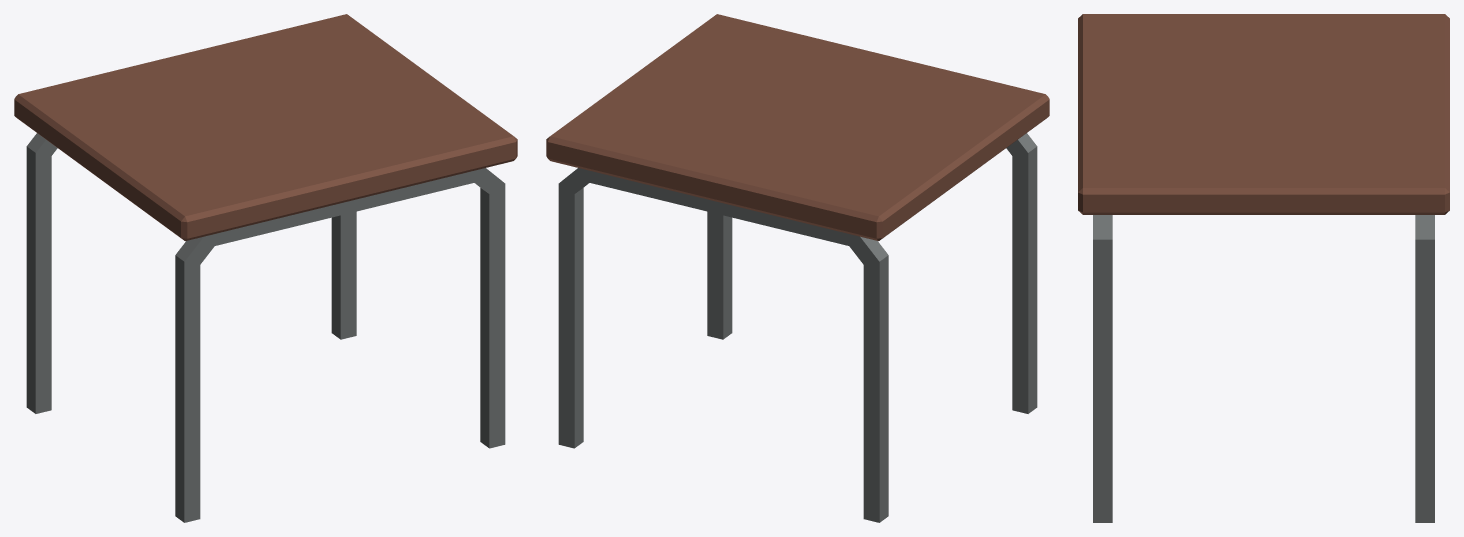
File: SM_Props_Interior_Shop_Restaurant_Table_01.fbx
3 renders of one model, left to right at view 1: azimuth 30°, elevation 25°; view 2: azimuth 150°, elevation 25°; view 3: azimuth 270°, elevation 25°, orthographic. The views are drawn at different scales.
Parts seen in each view (by area): view 1: SM_Props_Interior_Shop_Restaurant_Table_01; view 2: SM_Props_Interior_Shop_Restaurant_Table_01; view 3: SM_Props_Interior_Shop_Restaurant_Table_01.
Part boxes in pixels (x1,y1,x2,y2): SM_Props_Interior_Shop_Restaurant_Table_01: (14, 14, 517, 522); SM_Props_Interior_Shop_Restaurant_Table_01: (546, 14, 1049, 522); SM_Props_Interior_Shop_Restaurant_Table_01: (1078, 14, 1449, 522).
Size of the model in its own units: 85 by 75 by 75.
